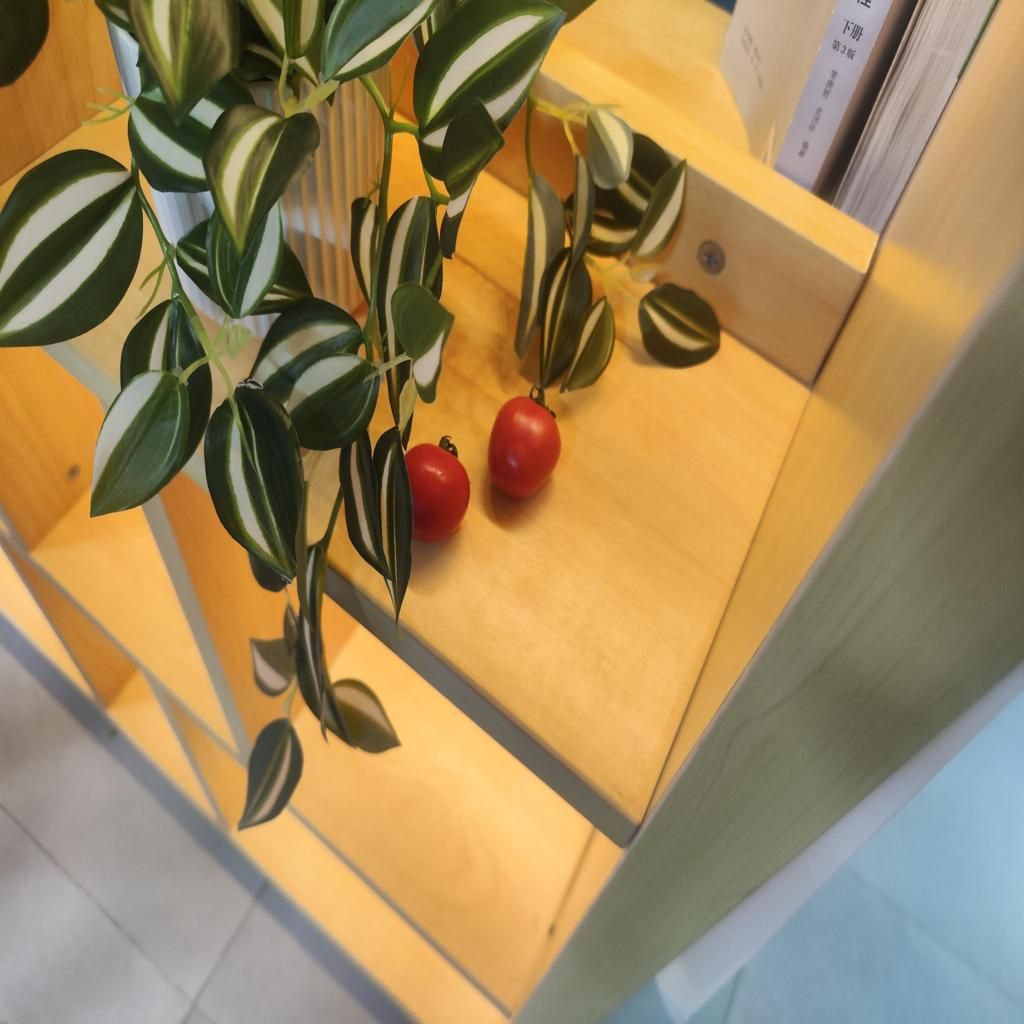tomato: (480, 384, 565, 505), (393, 440, 473, 543)
